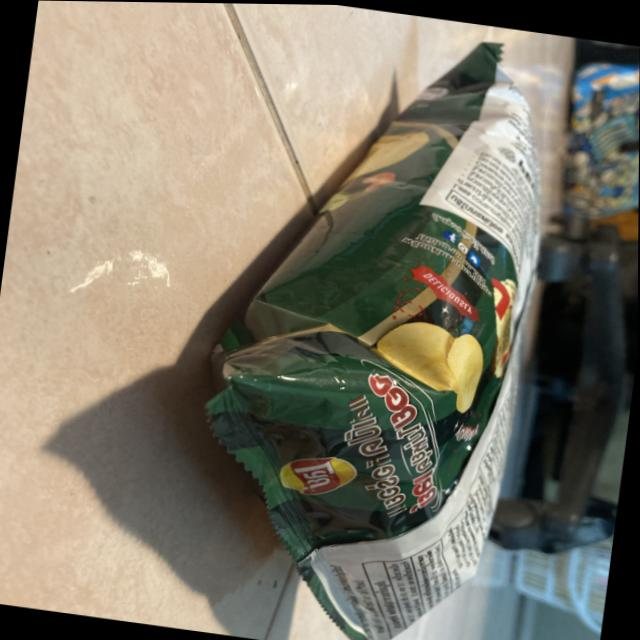Laygreen: (174, 2, 584, 640)
